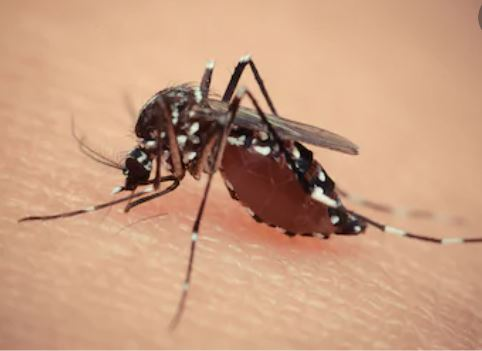dengue_mosquito: (72, 56, 447, 240)
